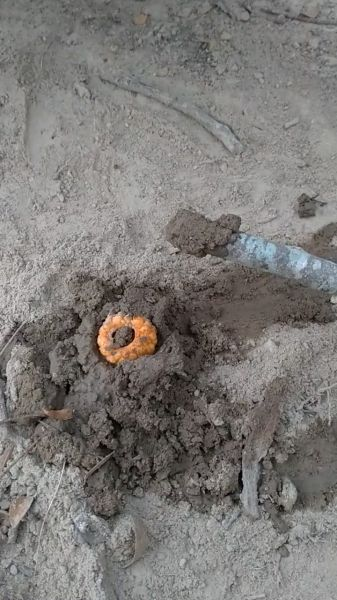eggs: (90, 305, 160, 364)
